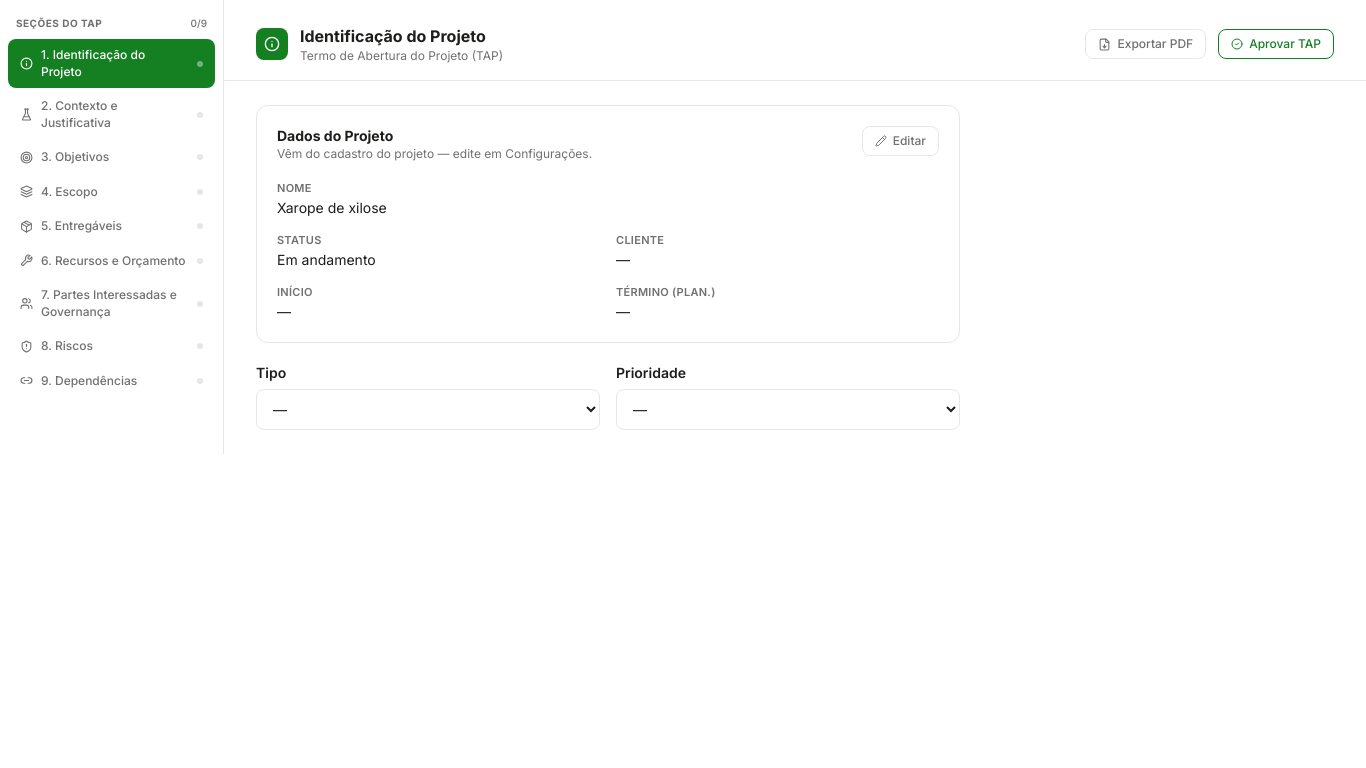
CharterClient — equipe do TAP › should fall back to project members when the role cannot list users
Click the button "6. Recursos e Orçamento". click: (112, 261)
box: [8,244,215,277]
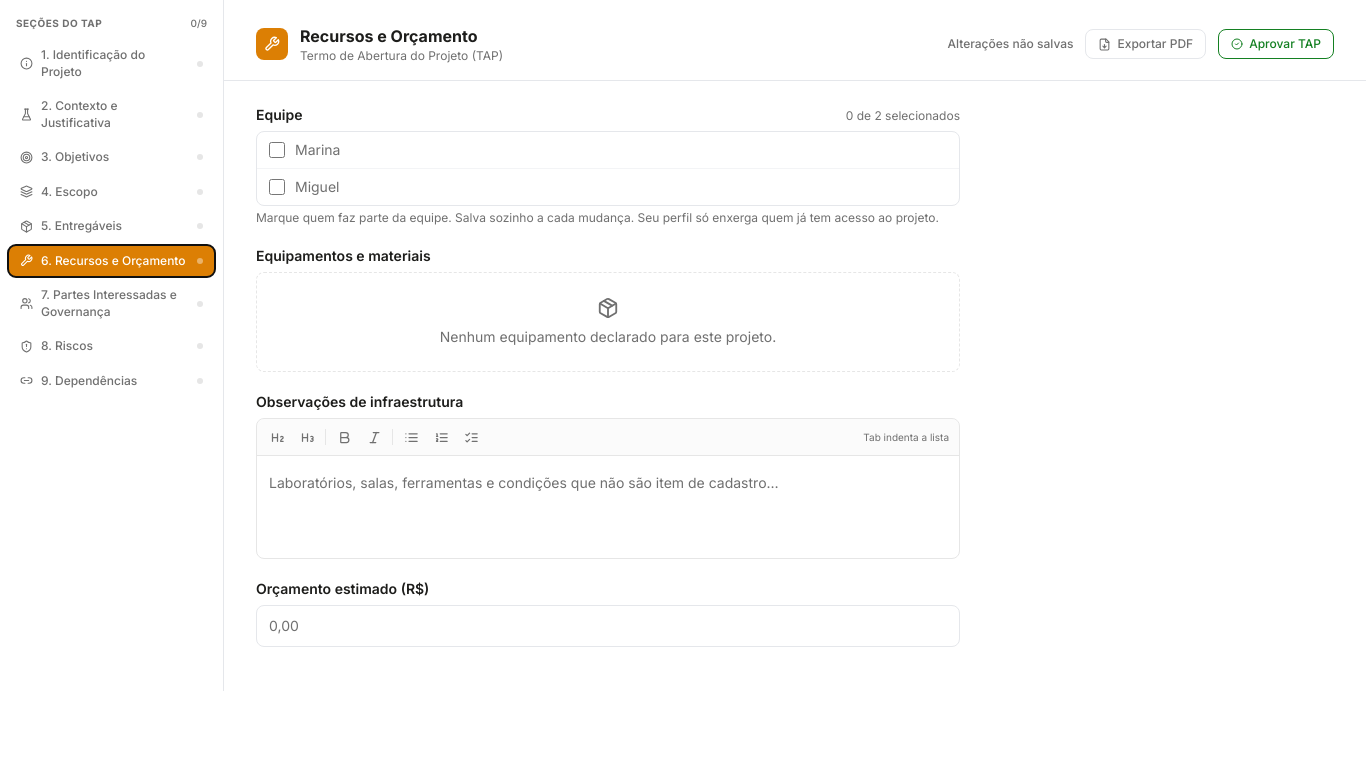
Expected: the checkbox labelled "Miguel" is shown, [269,179,285,195]
Expected: the checkbox labelled "Marina" is shown, [269,142,285,158]
